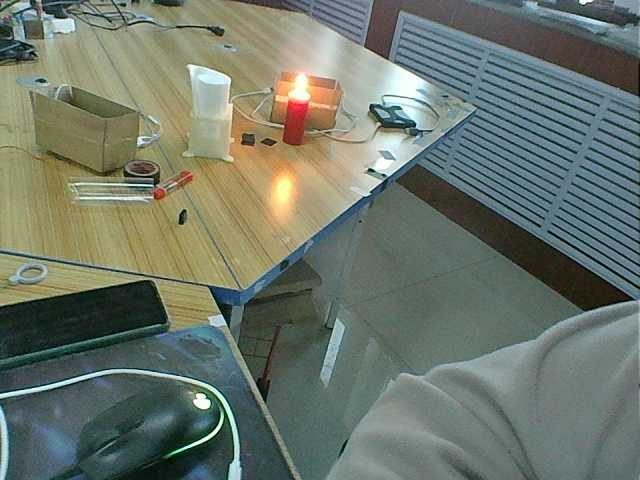candle: (279, 101, 310, 146)
fire: (290, 73, 312, 97)
